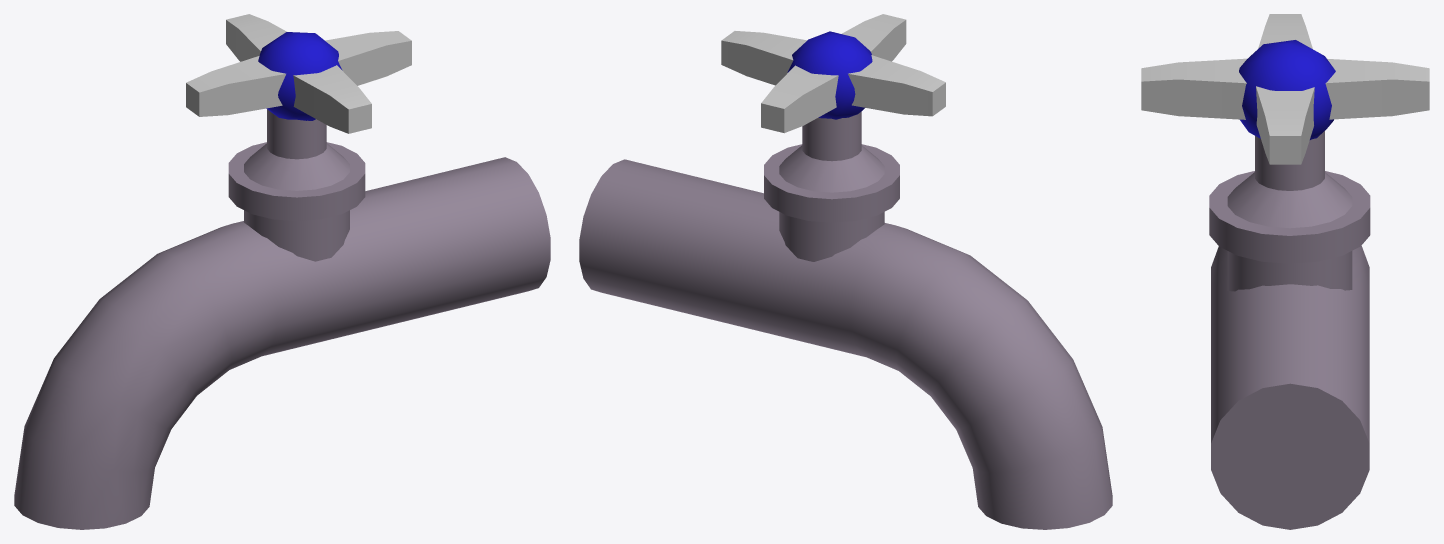
Rendered from keran.obj.
3 views of the same model, side by side, from view 1: azimuth 30°, elevation 25°; view 2: azimuth 150°, elevation 25°; view 3: azimuth 270°, elevation 25° (orthographic). The views are drawn at different scales.
Parts seen in each view (by area): view 1: keran; view 2: keran; view 3: keran.
Part boxes in pixels (x1,y1,x2,y2): keran: (14,14,550,529); keran: (579,14,1112,529); keran: (1141,14,1429,529).
Bounding box in the file's own units: 0.0861 × 0.0692 × 0.037.
